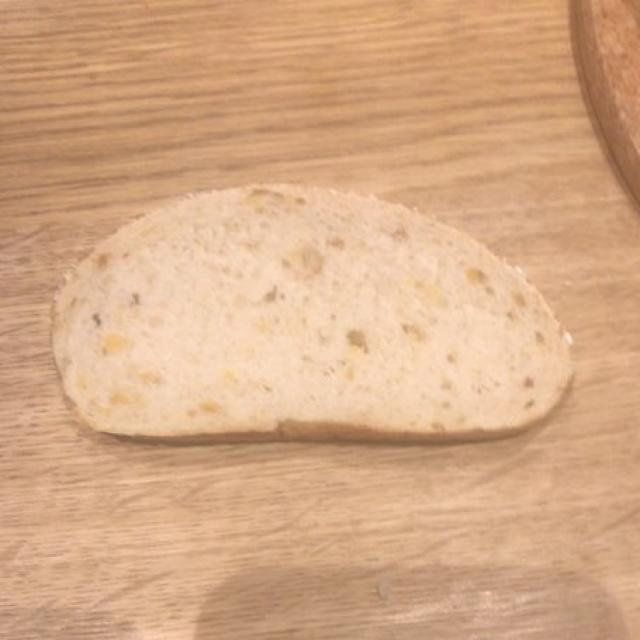bread: (54, 189, 569, 441)
